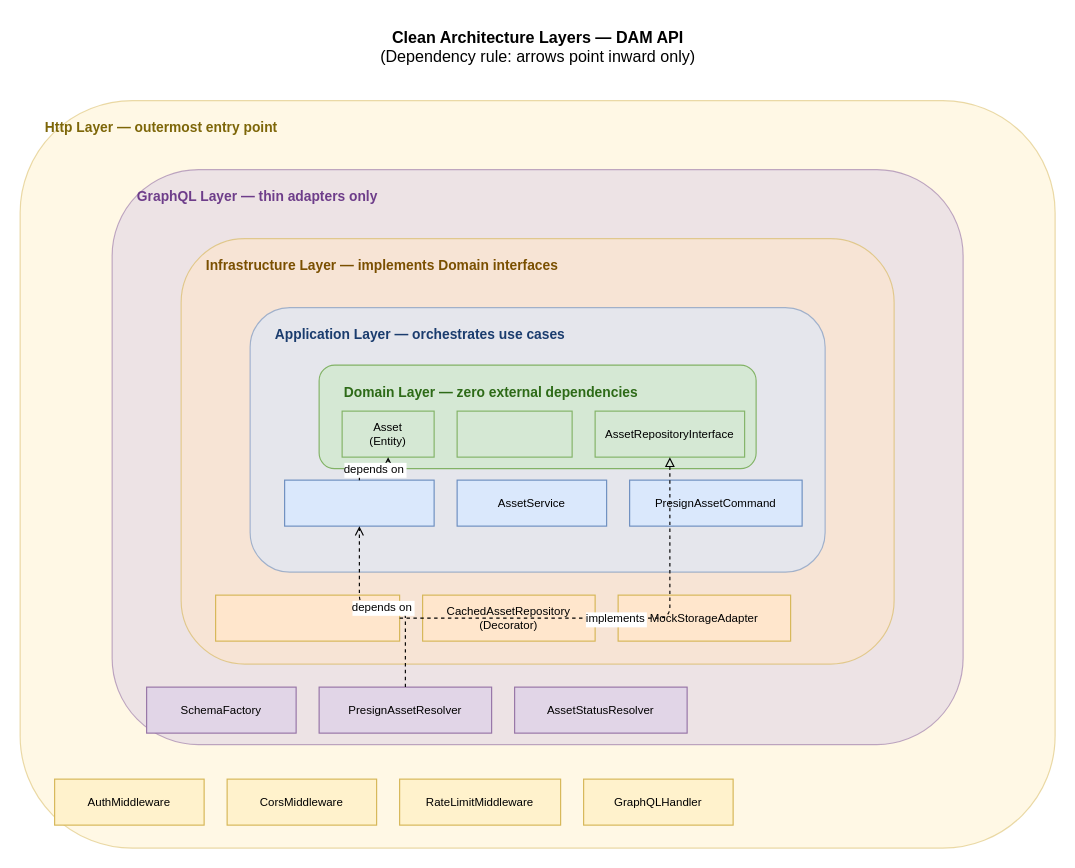
This 1075x868 diagram has some shape labels left out. The centre of each missing label's shape, as x and y in pixels:
MySQLAssetRepository: point 307,617
PresignService: point 358,502
UploadId AccountId (VO): point 514,433
